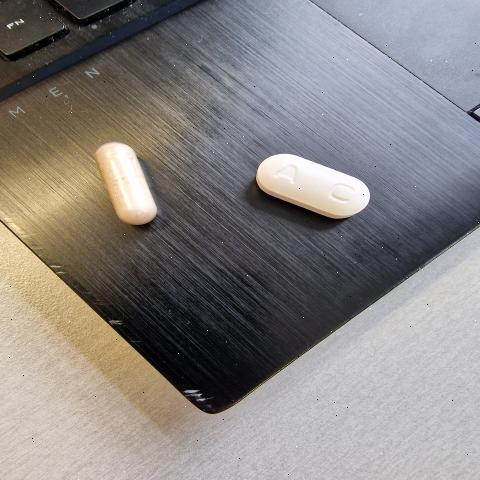Pill: (243, 125, 397, 240), (56, 126, 190, 249)
